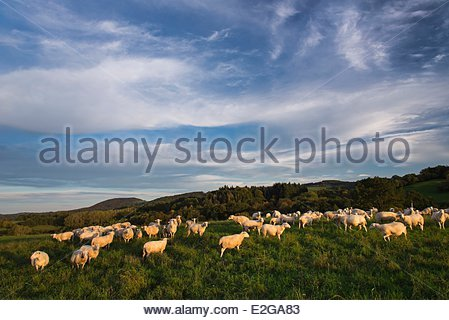sheep: (369, 221, 409, 242), (218, 231, 249, 258), (331, 213, 368, 232), (143, 237, 168, 260), (262, 221, 293, 239), (399, 212, 424, 232), (31, 250, 52, 273), (374, 211, 403, 227), (93, 231, 117, 250), (71, 249, 91, 270), (187, 220, 210, 237), (81, 243, 102, 261), (228, 214, 250, 230), (431, 209, 447, 230), (243, 218, 264, 233), (298, 213, 317, 228), (51, 233, 74, 243), (80, 230, 96, 244), (148, 218, 163, 232), (166, 220, 178, 237), (122, 228, 134, 243), (144, 225, 159, 237), (402, 206, 415, 218), (184, 218, 198, 229)
